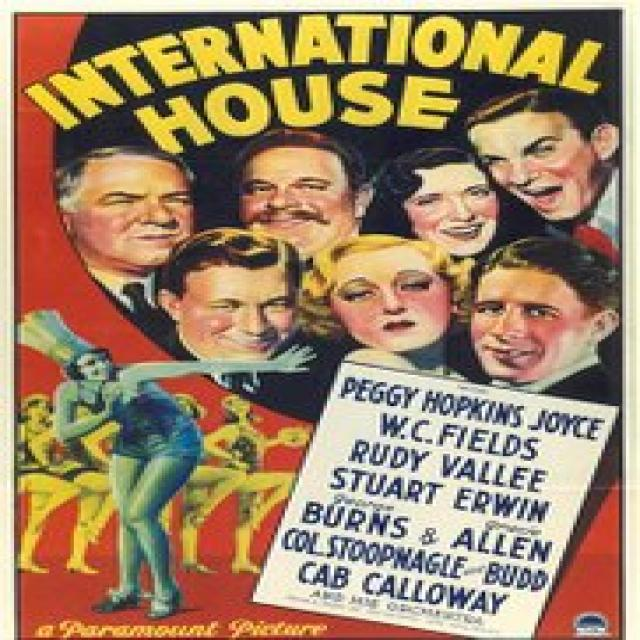movie-judul: (29, 16, 615, 151)
picture: (64, 92, 637, 398), (18, 308, 294, 640)
